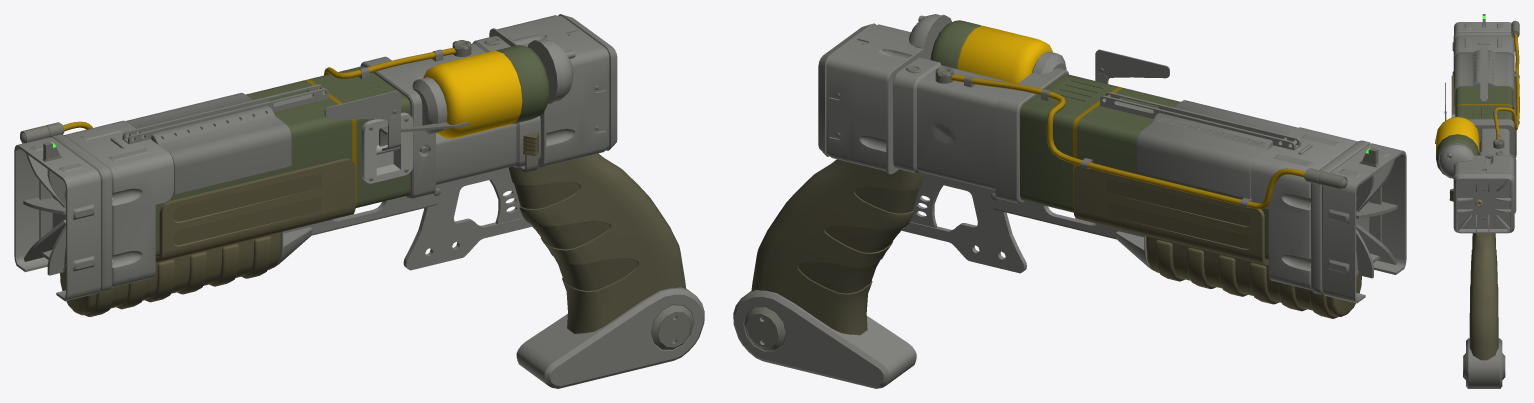
File: Laser Gun Fallout.fbx
The picture shows the model from 3 angles, left to right: view 1: azimuth 30°, elevation 25°; view 2: azimuth 150°, elevation 25°; view 3: azimuth 270°, elevation 25°; orthographic projection. The views are drawn at different scales.
Visible parts, largest first — view 1: Cube, Cube.021, Cube.001, Cube.020, Cube.005, Cube.002, Cube.006, Cube.028, Cylinder, Cube.003, Cube.004, Cube.017 (+17 smaller); view 2: Cube, Cube.005, Cube.003, Cube.021, Cube.002, Cube.001, Cube.020, Cube.028, Cube.006, Cylinder, Cube.004, Cube.016 (+15 smaller); view 3: Cube.002, Cube, Cube.020, Cube.005, Cube.001, Cylinder, Cube.006, Cube.003, Sphere, NurbsCurve, Cube.016, Cube.028 (+13 smaller).
Boxes of the visible parts, x1,y1,x2,y2 form: Cube: [509, 153, 685, 333]; Cube.021: [155, 158, 355, 261]; Cube.001: [516, 287, 704, 388]; Cube.020: [126, 92, 291, 194]; Cube.005: [155, 66, 410, 256]; Cube.002: [497, 14, 617, 166]; Cube.006: [64, 120, 173, 287]; Cube.028: [14, 137, 100, 301]; Cylinder: [423, 45, 549, 138]; Cube.003: [399, 36, 540, 184]; Cube.004: [403, 167, 532, 270]; Cube.017: [60, 232, 281, 315]; Cube: [751, 159, 924, 335]; Cube.005: [1020, 74, 1268, 259]; Cube.003: [893, 57, 1015, 189]; Cube.021: [1073, 165, 1268, 265]; Cube.002: [818, 23, 921, 171]; Cube.001: [733, 290, 916, 388]; Cube.020: [1136, 100, 1297, 198]; Cube.028: [1322, 143, 1406, 303]; Cube.006: [1251, 127, 1357, 290]; Cylinder: [930, 20, 1052, 83]; Cube.004: [900, 173, 1026, 273]; Cube.016: [995, 68, 1068, 203]; Cube.002: [1453, 156, 1514, 233]; Cube: [1469, 233, 1498, 360]; Cube.020: [1454, 50, 1514, 106]; Cube.005: [1455, 87, 1512, 120]; Cube.001: [1466, 338, 1502, 388]; Cylinder: [1436, 117, 1479, 178]; Cube.006: [1453, 36, 1514, 75]; Cube.003: [1479, 128, 1510, 155]; Sphere: [1439, 144, 1474, 178]; NurbsCurve: [1493, 33, 1519, 139]; Cube.016: [1467, 119, 1514, 156]; Cube.028: [1454, 22, 1511, 34].
Bounding box in the file's own units: 516 × 273 × 102.
